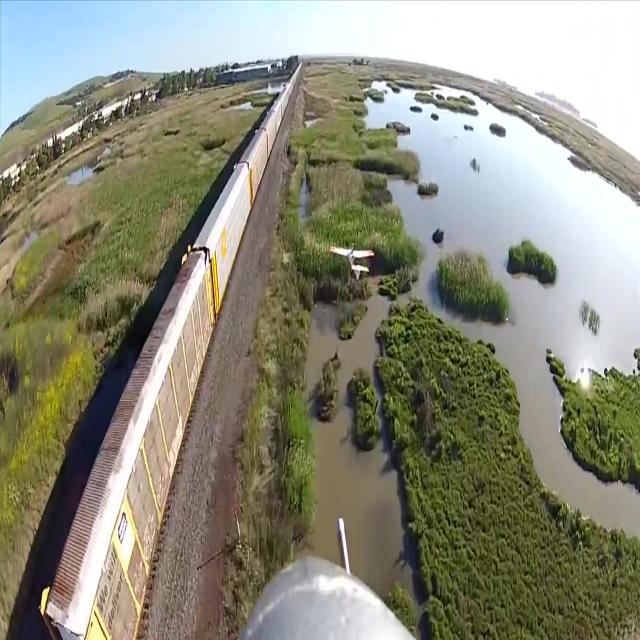iha: (329, 242, 375, 280)
